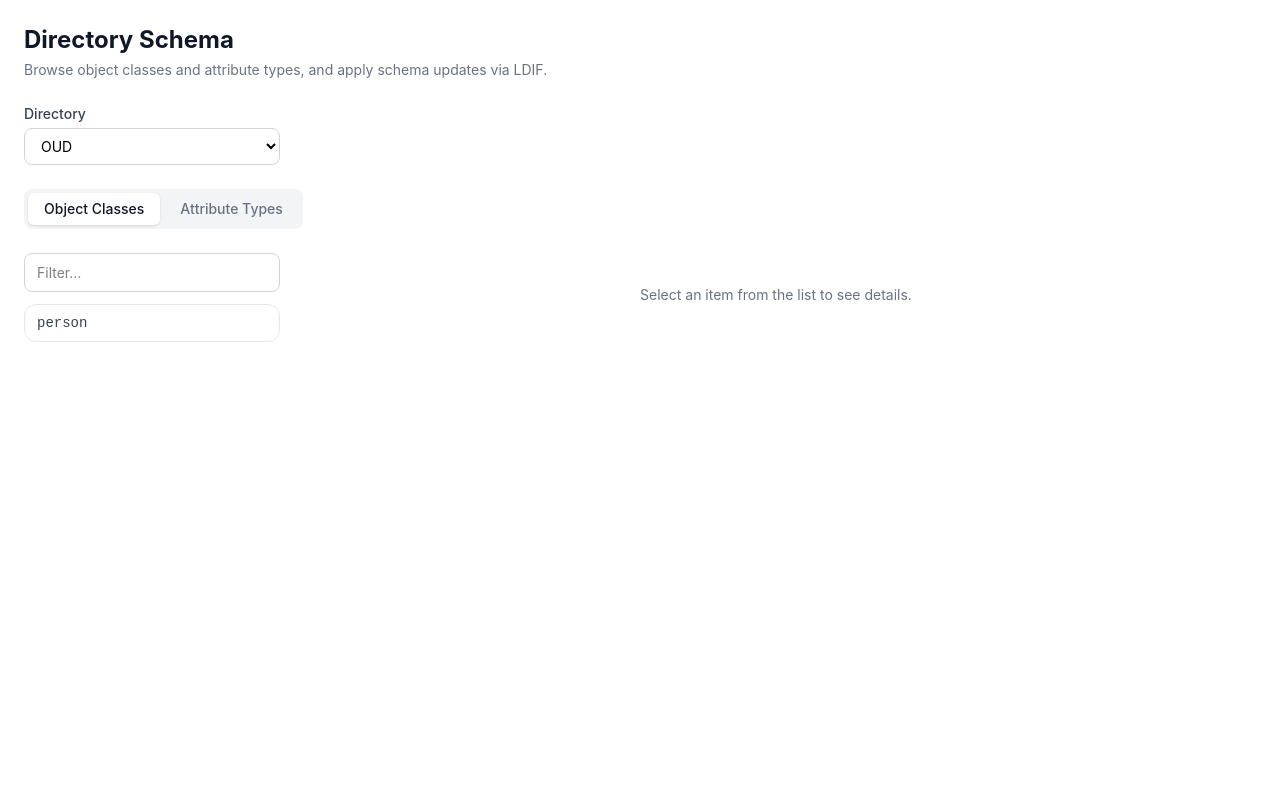
SchemaBrowserView attribute detail › navigates to an object class when a used-by chip is clicked
Click the button "Attribute Types" at coordinates (232, 209), box top-left (164, 193), bottom-right (299, 225)
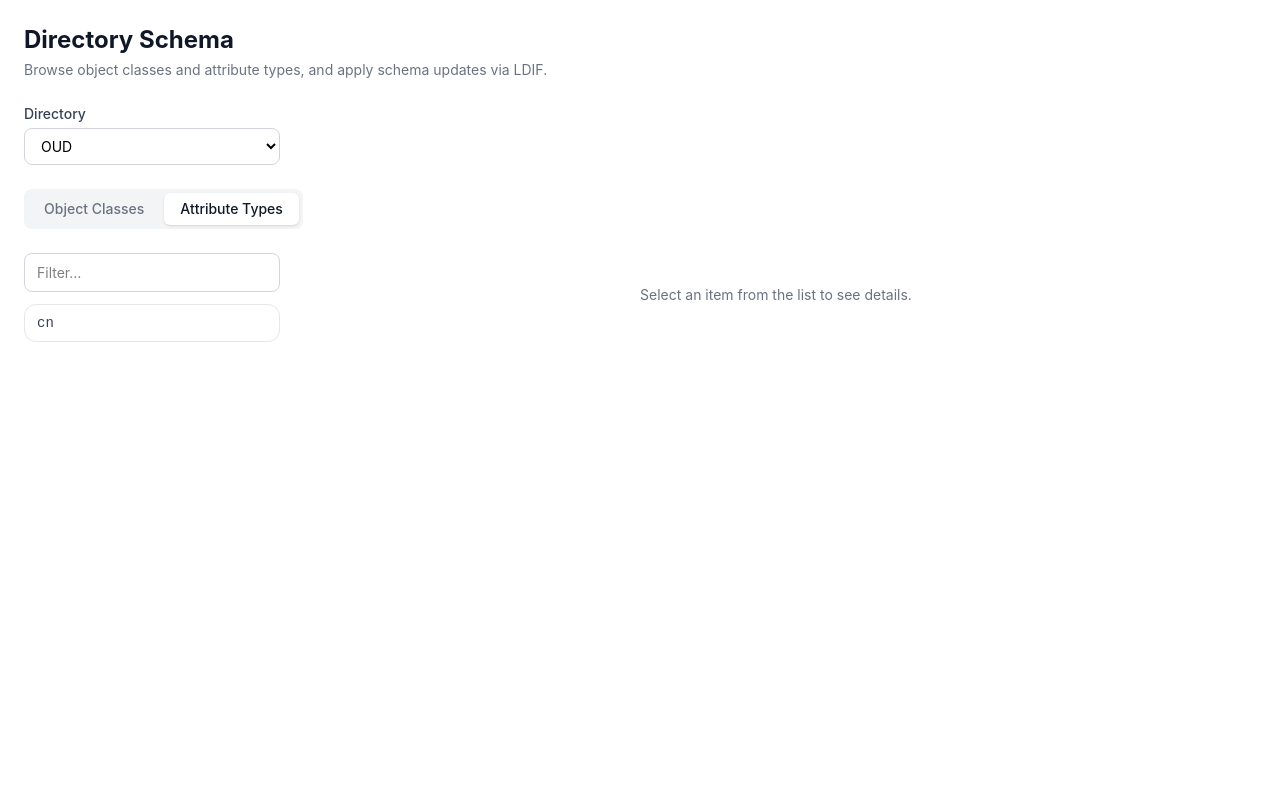
Click the button "cn" at coordinates (152, 323), box top-left (25, 305), bottom-right (279, 341)
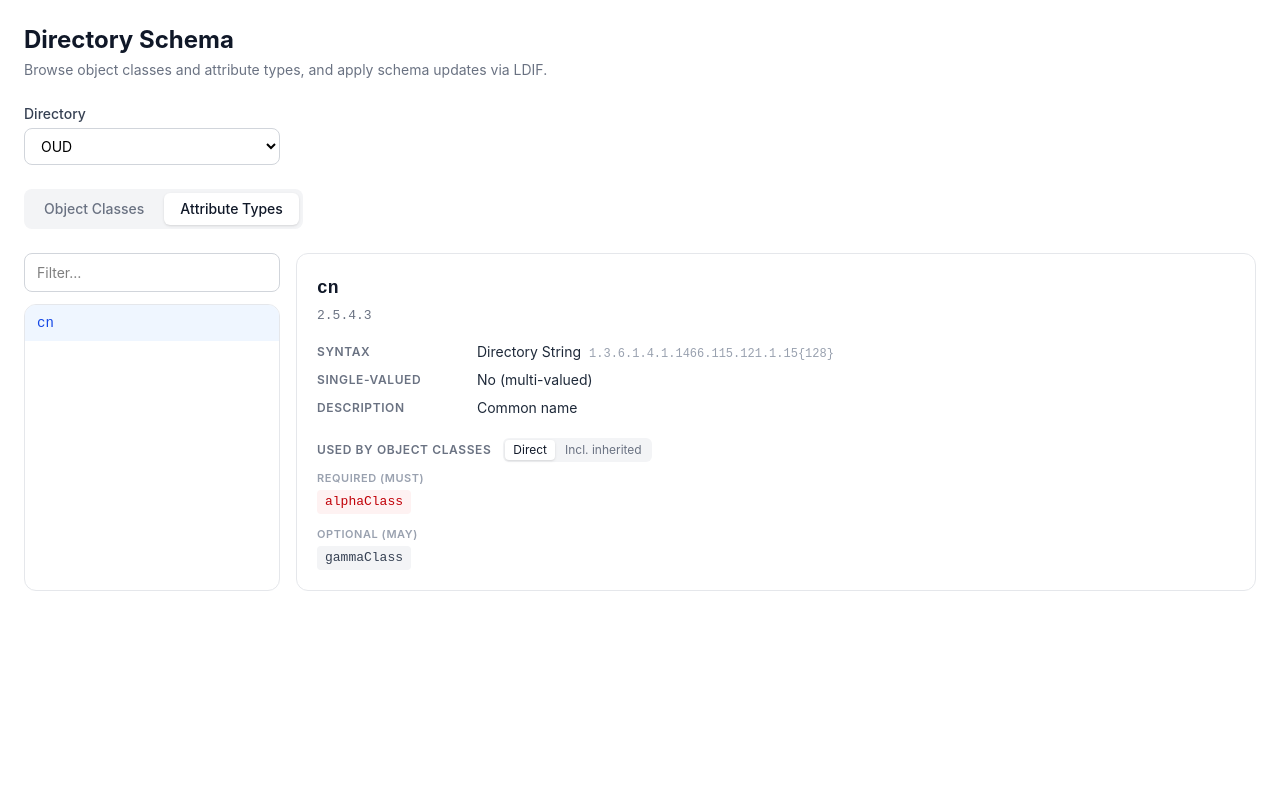
Click the button "alphaClass" at coordinates (364, 502), box top-left (317, 490), bottom-right (411, 514)
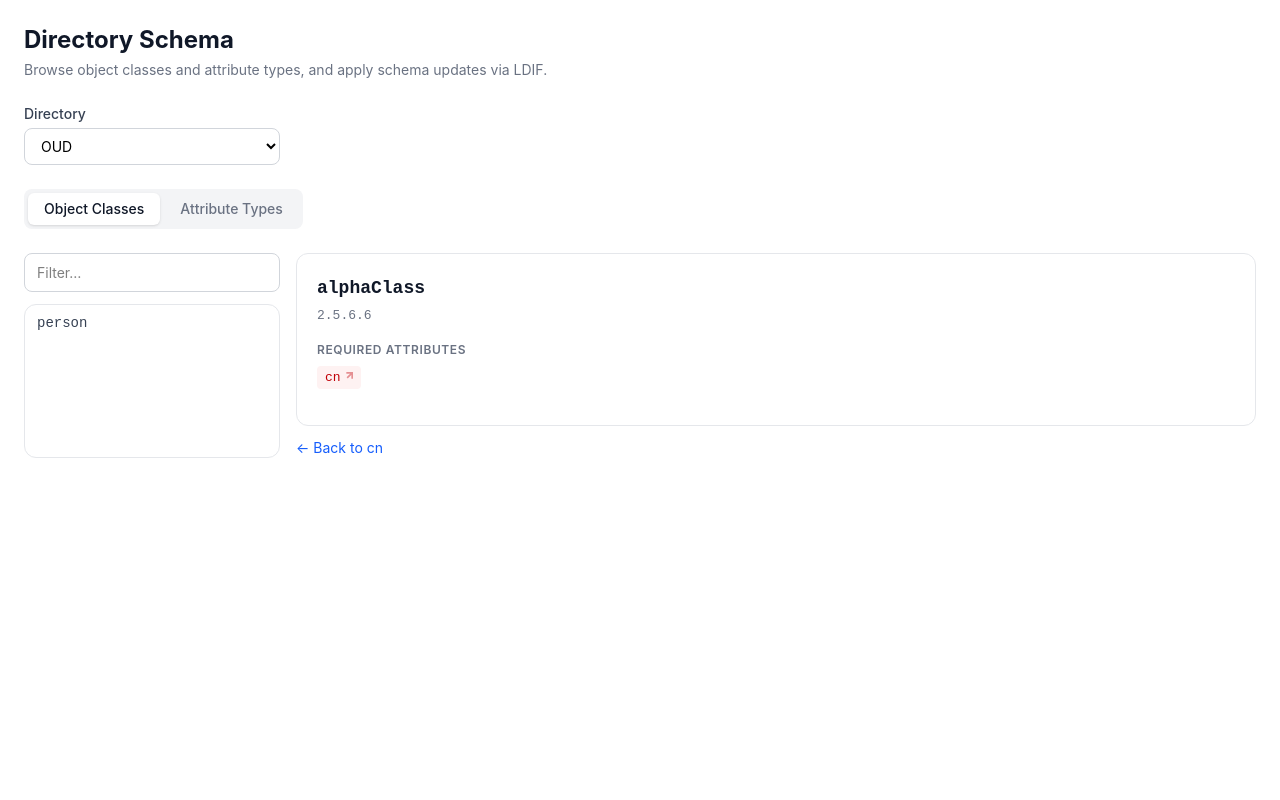
Now the text "Back to cn" is shown, box top-left (296, 438), bottom-right (383, 458)
